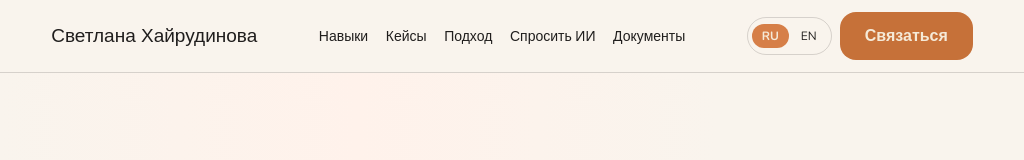
Test: SiteNav › translates the brand name, links, and CTA after switching to EN
Click the button "EN" at point(809, 36), box [791, 24, 827, 48]
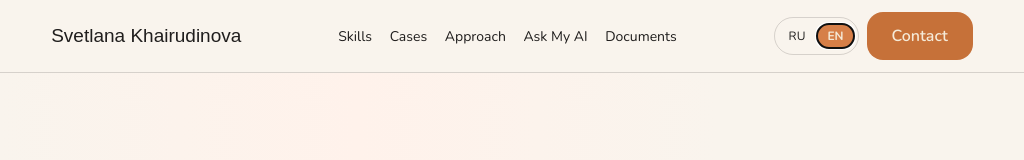
Now the text "Svetlana Khairudinova" is shown, box [51, 25, 241, 47]
